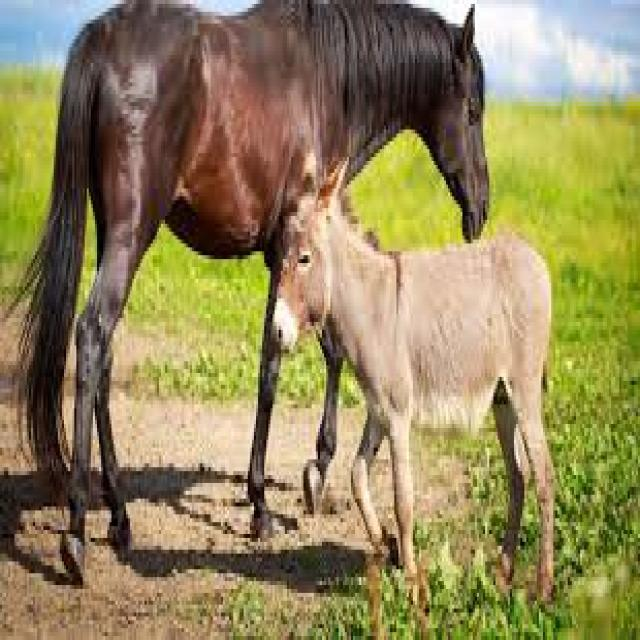Donkey: (16, 0, 496, 560), (271, 142, 575, 610)
